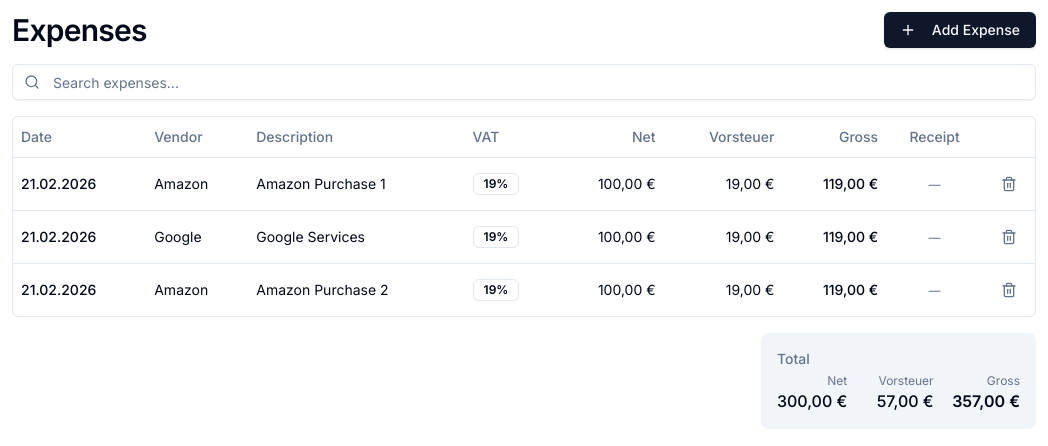
Scenario: ExpenseList › filtering › filters by vendor name
This screenshot has width=1048, height=446.
Type "Amazon" into the field with placeholder "Search expenses...". click: (524, 82)
box: [12,64,1036,100]
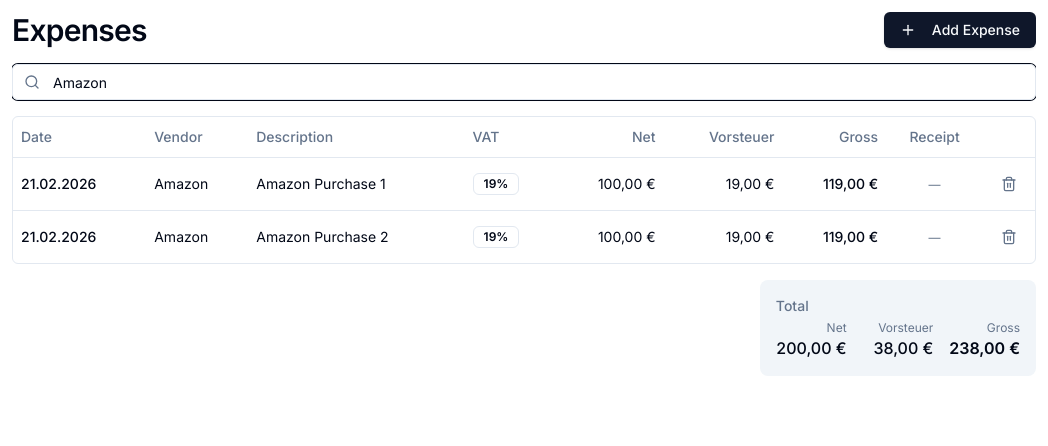
Expected: the text "Amazon Purchase 1" is shown, [256,174,386,194]
Result: the text "Google Services" is gone
